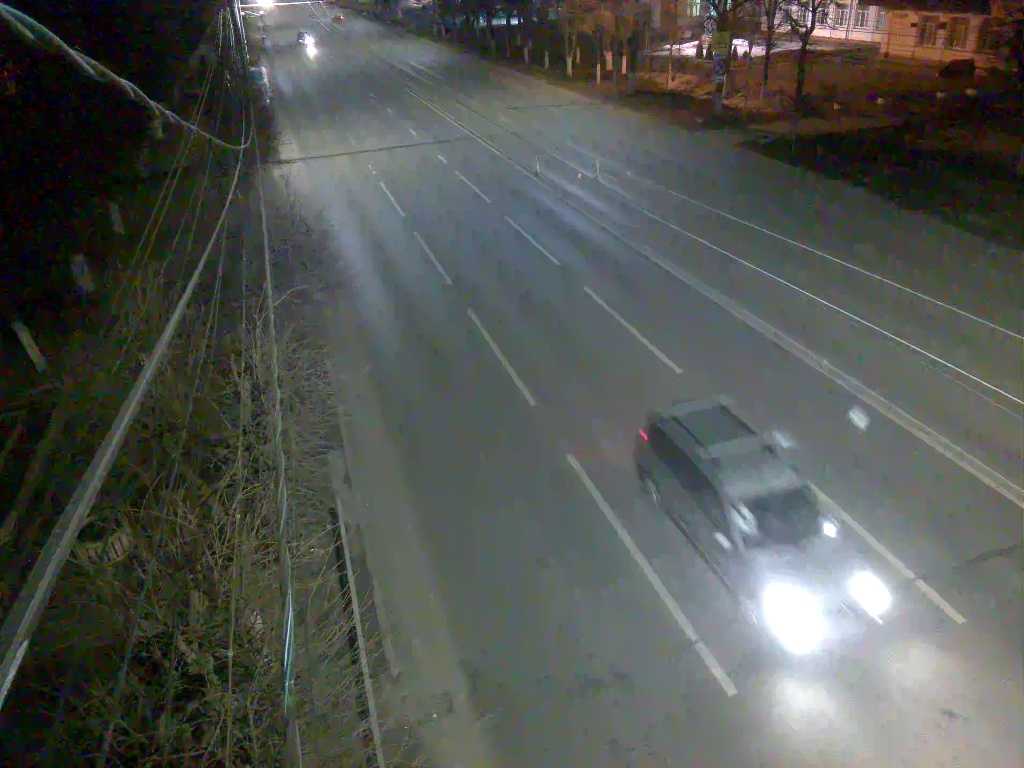car: (629, 395, 905, 656)
